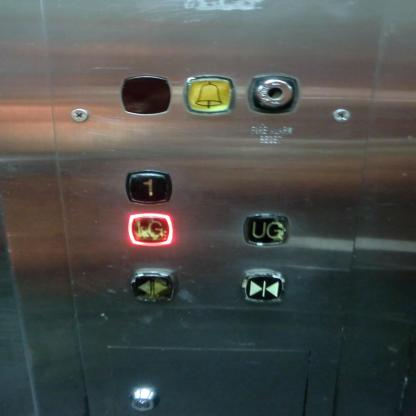1: (122, 167, 176, 208)
LG: (124, 211, 176, 252)
UG: (240, 210, 292, 251)
alarm: (182, 72, 235, 116)
close: (237, 266, 287, 310)
empty: (118, 72, 174, 118)
open: (128, 265, 178, 308)
unknown: (247, 71, 302, 117)
